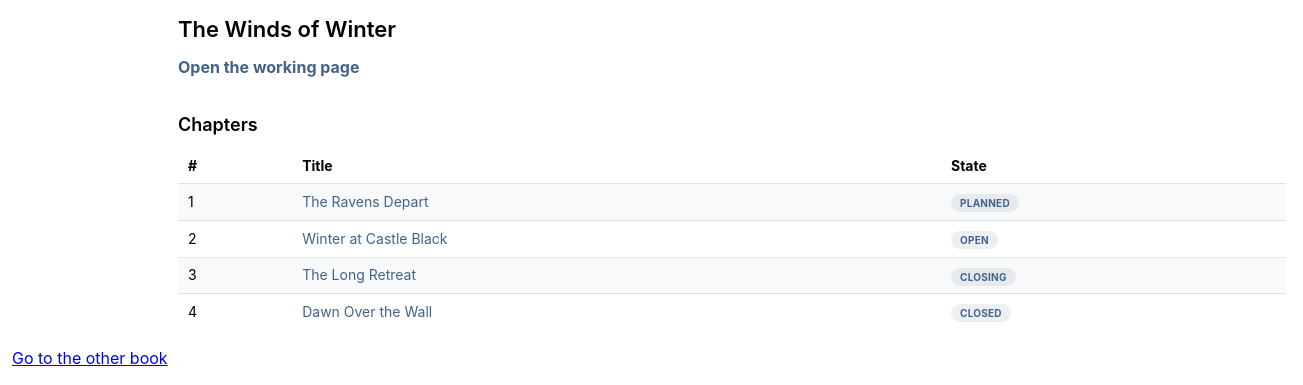
Test: BookHubPage — the read-only book hub › DoD-6: changing :bookId re-loads both resources and never shows the previous book's chapters
This screenshot has width=1303, height=385.
Expected: the heading "The Winds of Winter" is shown, [178, 16, 396, 42]
Expected: the text "The Ravens Depart" is shown, [302, 193, 428, 210]
Step 1. Click the link "Go to the other book" → (90, 358), box [12, 348, 168, 368]
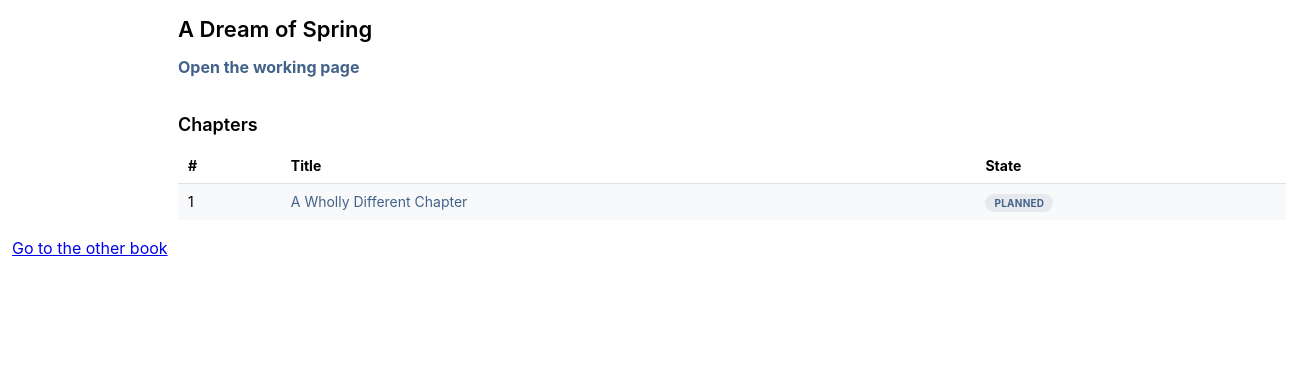
Result: the heading "A Dream of Spring" is shown at [178, 16, 372, 42]
Result: the text "A Wholly Different Chapter" is shown at [291, 193, 467, 210]
Result: the link "The Ravens Depart" is gone
